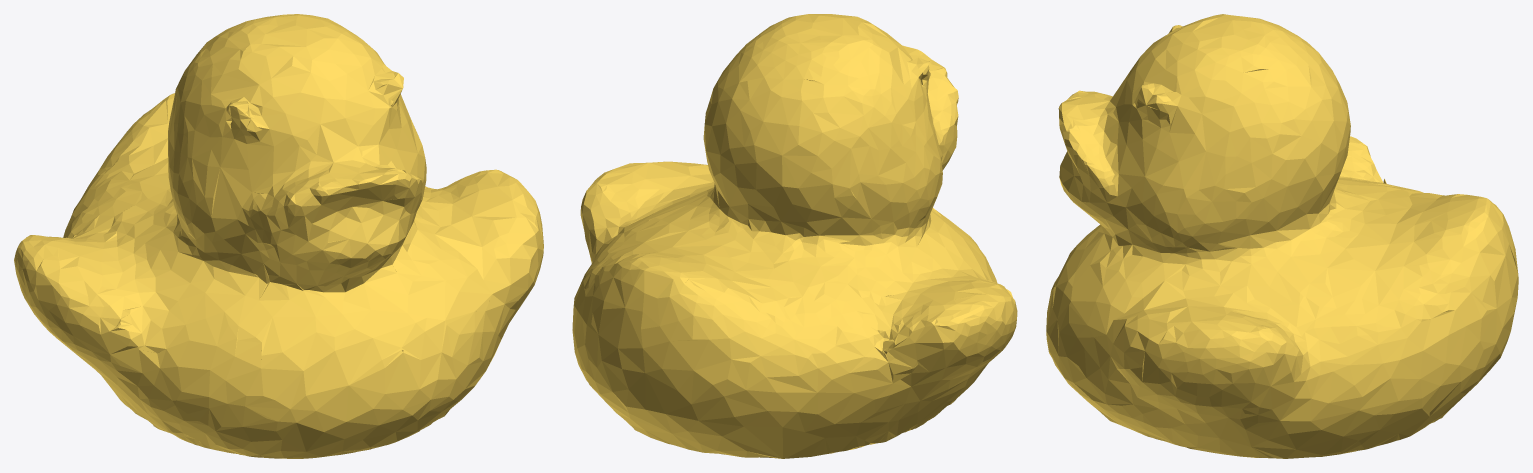
Rendered from duck_web.glb.
3 views of the same model, side by side, from view 1: azimuth 30°, elevation 25°; view 2: azimuth 150°, elevation 25°; view 3: azimuth 270°, elevation 25° (orthographic). The views are drawn at different scales.
Parts seen in each view (by area): view 1: f13475cb-8367-46ba-a9d9-d25705554fdf; view 2: f13475cb-8367-46ba-a9d9-d25705554fdf; view 3: f13475cb-8367-46ba-a9d9-d25705554fdf.
Boxes of the visible parts, <box> form: f13475cb-8367-46ba-a9d9-d25705554fdf: <box>14,14,543,458</box>; f13475cb-8367-46ba-a9d9-d25705554fdf: <box>572,14,1017,458</box>; f13475cb-8367-46ba-a9d9-d25705554fdf: <box>1046,14,1518,458</box>.
Bounding box in the file's own units: 43.86 × 32.82 × 40.48.
